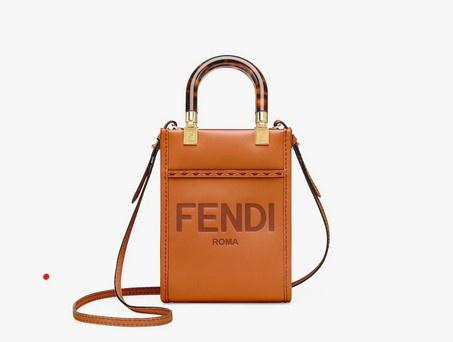FENDI: (177, 202, 274, 232)
